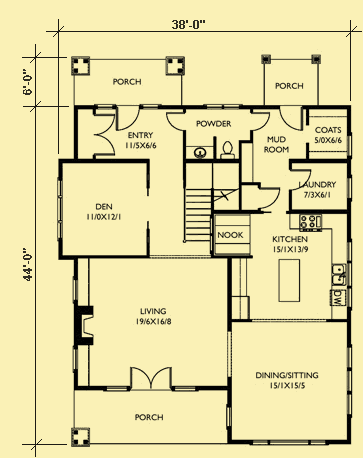door: (129, 362, 175, 393), (93, 111, 117, 157), (112, 101, 141, 133), (275, 104, 307, 132), (285, 167, 313, 192), (259, 184, 282, 211), (161, 110, 186, 132), (248, 108, 271, 131)
large sink: (217, 137, 238, 159)
small sink: (183, 143, 215, 159)
stairs: (180, 159, 243, 245)
twin sink: (331, 261, 349, 287)
windows: (343, 342, 358, 421), (245, 437, 332, 449), (344, 235, 356, 313), (54, 175, 66, 242), (198, 99, 244, 111), (225, 326, 235, 381), (221, 403, 238, 430), (343, 129, 356, 162), (99, 381, 128, 394), (69, 273, 81, 303), (173, 381, 200, 393), (71, 346, 82, 374), (345, 174, 354, 203)
